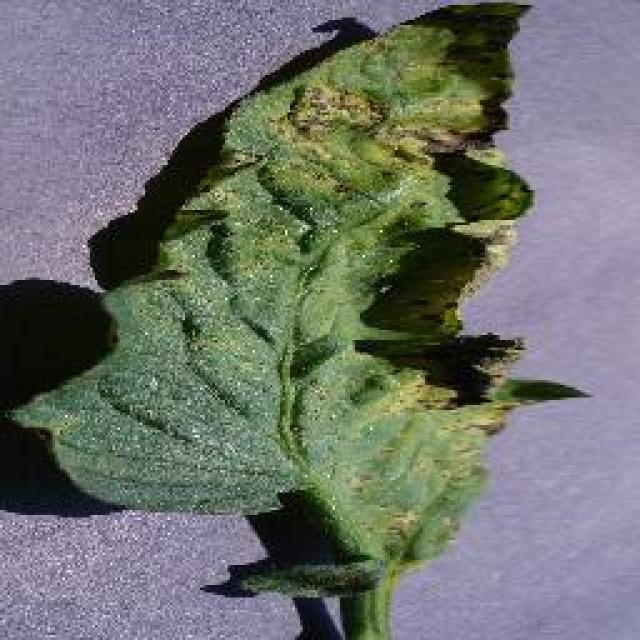Tomato target spot leaf: (9, 0, 592, 602)
